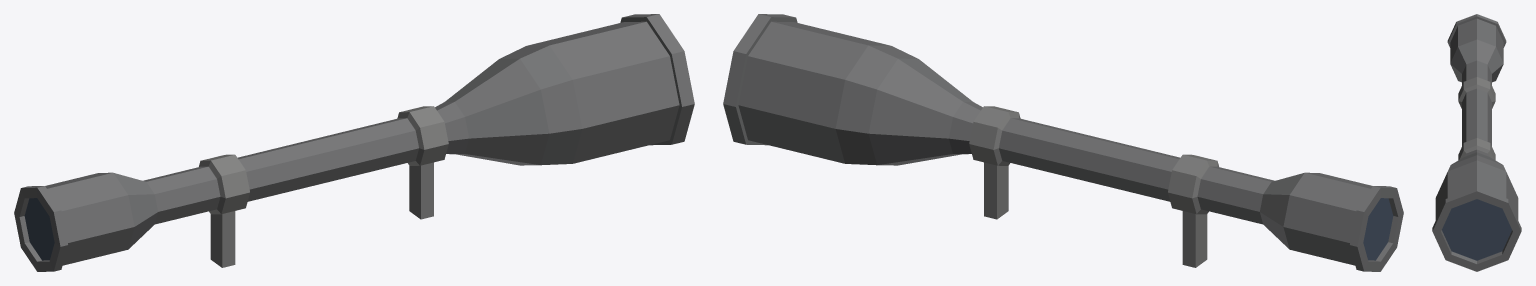
Rendered from acc-scope-3.glb.
3 renders of one model, left to right at view 1: azimuth 30°, elevation 25°; view 2: azimuth 150°, elevation 25°; view 3: azimuth 270°, elevation 25°, orthographic. The views are drawn at different scales.
Visible parts, largest first — view 1: Scope_3; view 2: Scope_3; view 3: Scope_3.
Part boxes in pixels (x1,y1,x2,y2): Scope_3: (14,14,694,271); Scope_3: (723,14,1403,271); Scope_3: (1432,14,1521,271).
Bounding box in the file's own units: 1.92 × 0.4186 × 0.3784.
